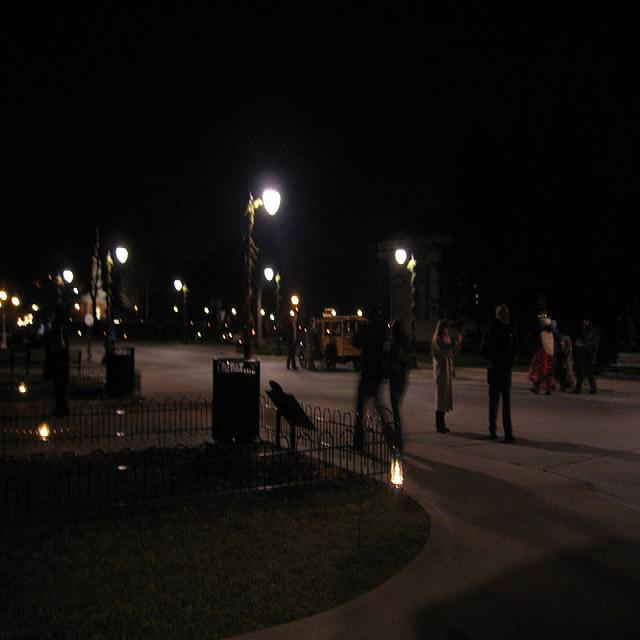Bus: (302, 307, 368, 377)
People: (427, 319, 477, 441), (486, 300, 526, 448), (579, 308, 621, 398), (530, 316, 561, 415)
